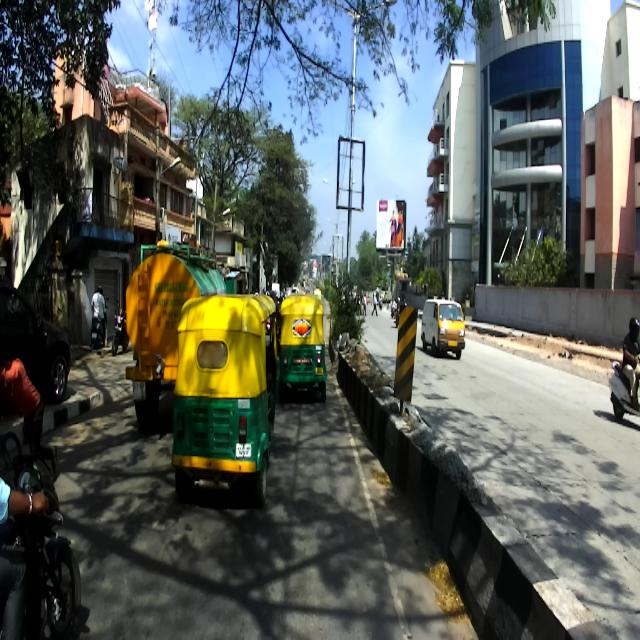auto ahead at: (166, 290, 279, 498), (282, 296, 334, 415)
barrier ahead at: (332, 345, 592, 640)
